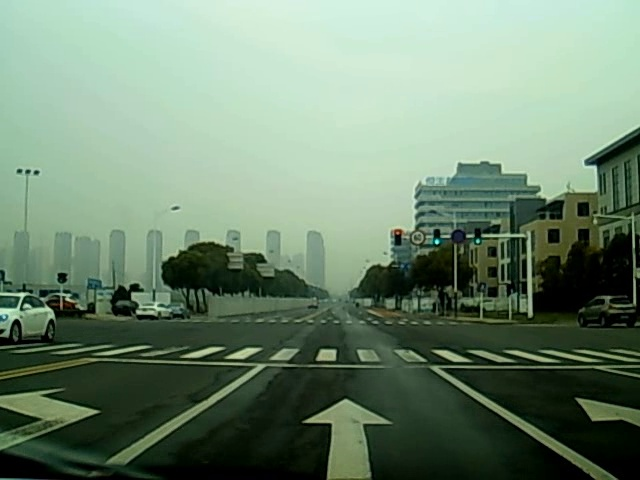Traffic_Light_go: (434, 230, 441, 249), (473, 229, 480, 247)
Traffic_Light_stop: (394, 230, 402, 248)
